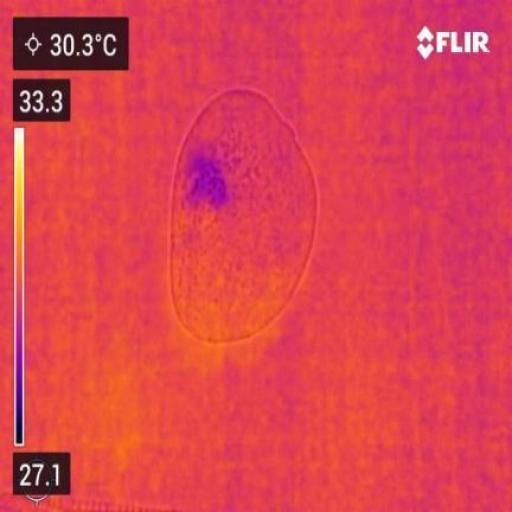alphanso: (168, 89, 316, 341)
